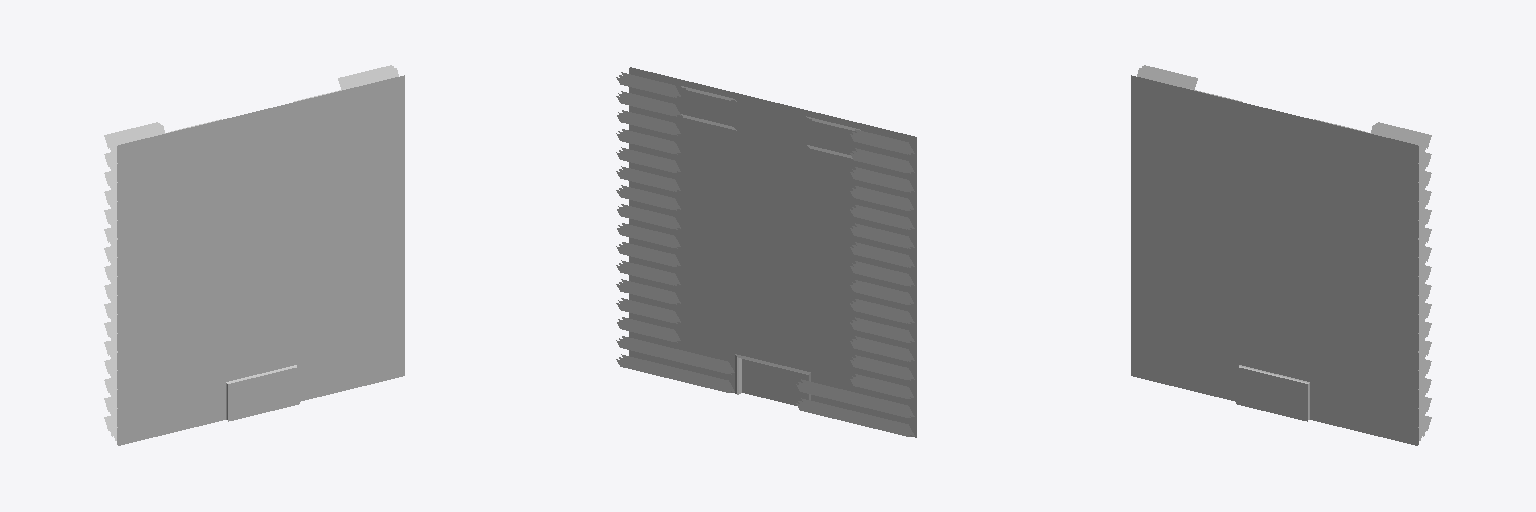
File: map1.obj
3 renders of one model, left to right at view 1: azimuth 30°, elevation 25°; view 2: azimuth 150°, elevation 25°; view 3: azimuth 330°, elevation 25°, orthographic.
Parts seen in each view (by area): view 1: map; view 2: map; view 3: map.
Boxes of the visible parts, x1=… form: map: x1=104, y1=65, x2=404, y2=445; map: x1=616, y1=67, x2=916, y2=437; map: x1=1131, y1=65, x2=1431, y2=445.
Bounding box in the file's own units: 32 × 32.12 × 3.14.